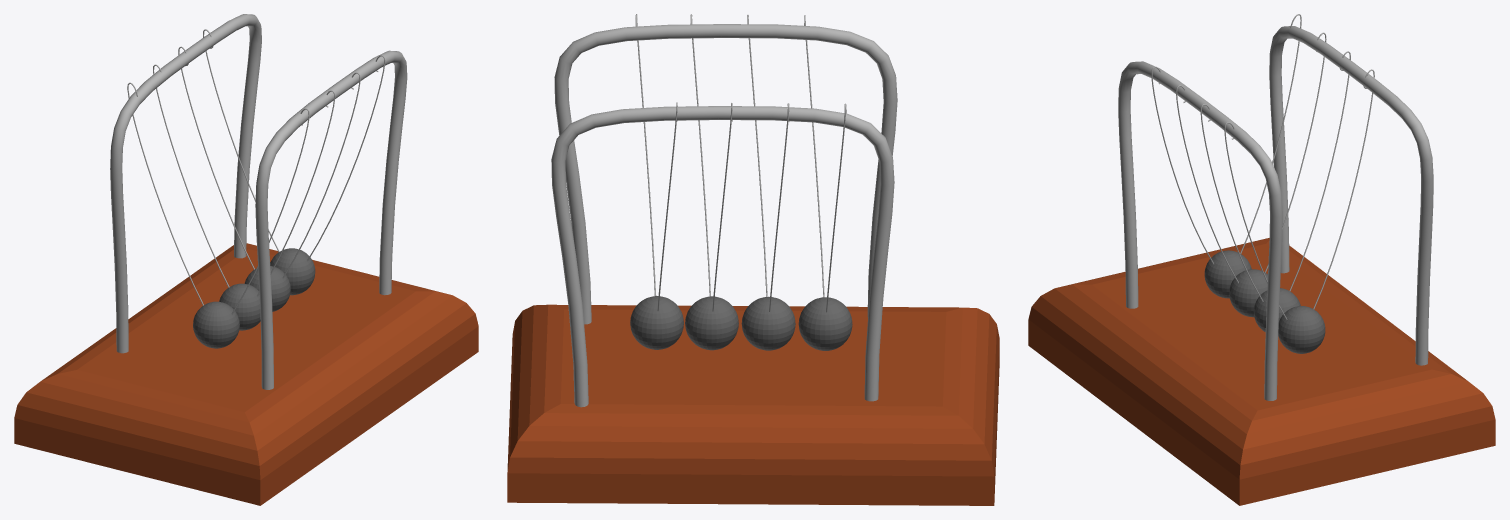
Rendered from movingBalls.glb.
3 renders of one model, left to right at view 1: azimuth 30°, elevation 25°; view 2: azimuth 150°, elevation 25°; view 3: azimuth 270°, elevation 25°, orthographic. The views are drawn at different scales.
Visible parts, largest first — view 1: Base, BezierCurve.003, BezierCurve.002, Bal 1.003, Bal 1, Bal 1.002, Bal 1.001; view 2: Base, BezierCurve.003, BezierCurve.002, Bal 1, Bal 1.002, Bal 1.003, Bal 1.001, Touw, Touw.001; view 3: Base, BezierCurve.002, BezierCurve.003, Bal 1, Bal 1.003, Bal 1.002, Bal 1.001.
Boxes of the visible parts, x1,y1,x2,y2 form: Base: (14,243,478,505); BezierCurve.003: (110,14,261,353); BezierCurve.002: (255,50,407,389); Bal 1.003: (193,301,239,348); Bal 1: (270,248,315,295); Bal 1.002: (219,283,260,330); Bal 1.001: (244,266,290,311); Base: (507,304,999,505); BezierCurve.003: (551,106,894,407); BezierCurve.002: (554,24,897,324); Bal 1: (630,296,683,349); Bal 1.002: (741,296,795,350); Bal 1.003: (798,297,852,350); Bal 1.001: (685,296,738,350); Touw: (635,14,656,295); Touw.001: (690,14,710,296); Base: (1028,238,1495,505); BezierCurve.002: (1118,61,1282,400); BezierCurve.003: (1269,26,1433,365); Bal 1: (1278,306,1325,353); Bal 1.003: (1204,250,1251,298); Bal 1.002: (1229,269,1267,317); Bal 1.001: (1253,288,1300,331).
Bounding box in the file's own units: 0.4092 × 0.288 × 0.3663.
